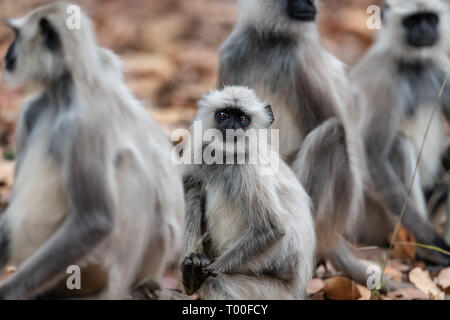monkey: (212, 1, 387, 293), (3, 3, 162, 299), (175, 82, 315, 301), (350, 1, 450, 275)
